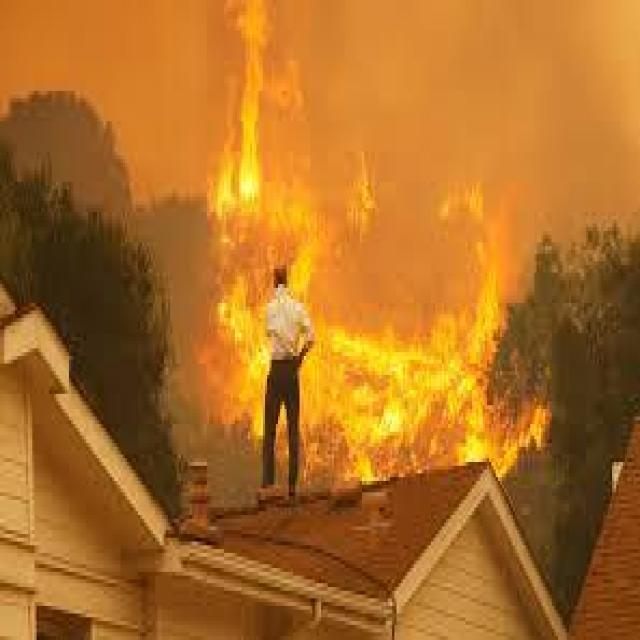fire: (219, 18, 504, 482)
